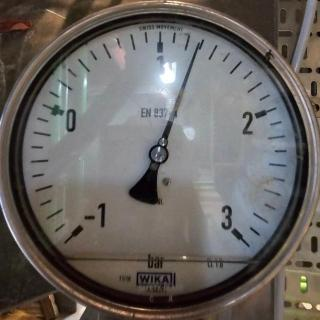gauge: (0, 0, 320, 320), (54, 198, 112, 256), (219, 215, 251, 248), (147, 144, 169, 164), (193, 40, 203, 52)
